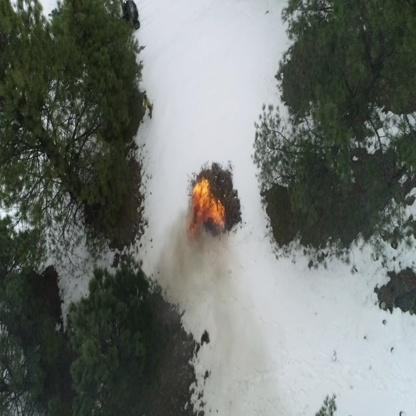Fire: (206, 199, 230, 231), (197, 180, 211, 222), (189, 222, 204, 234)
